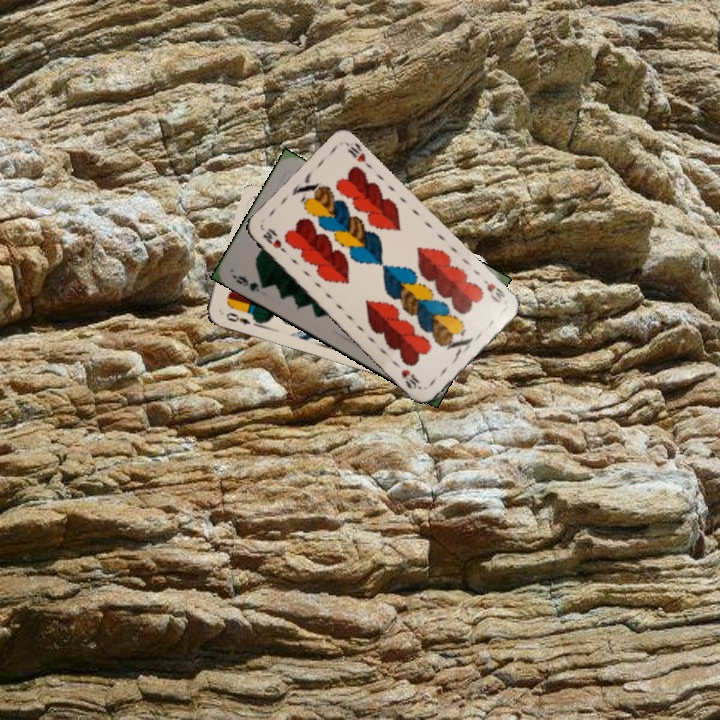EO: (222, 308, 253, 327)
G9: (232, 272, 262, 294)
H10: (258, 225, 289, 255), (479, 275, 508, 306)
